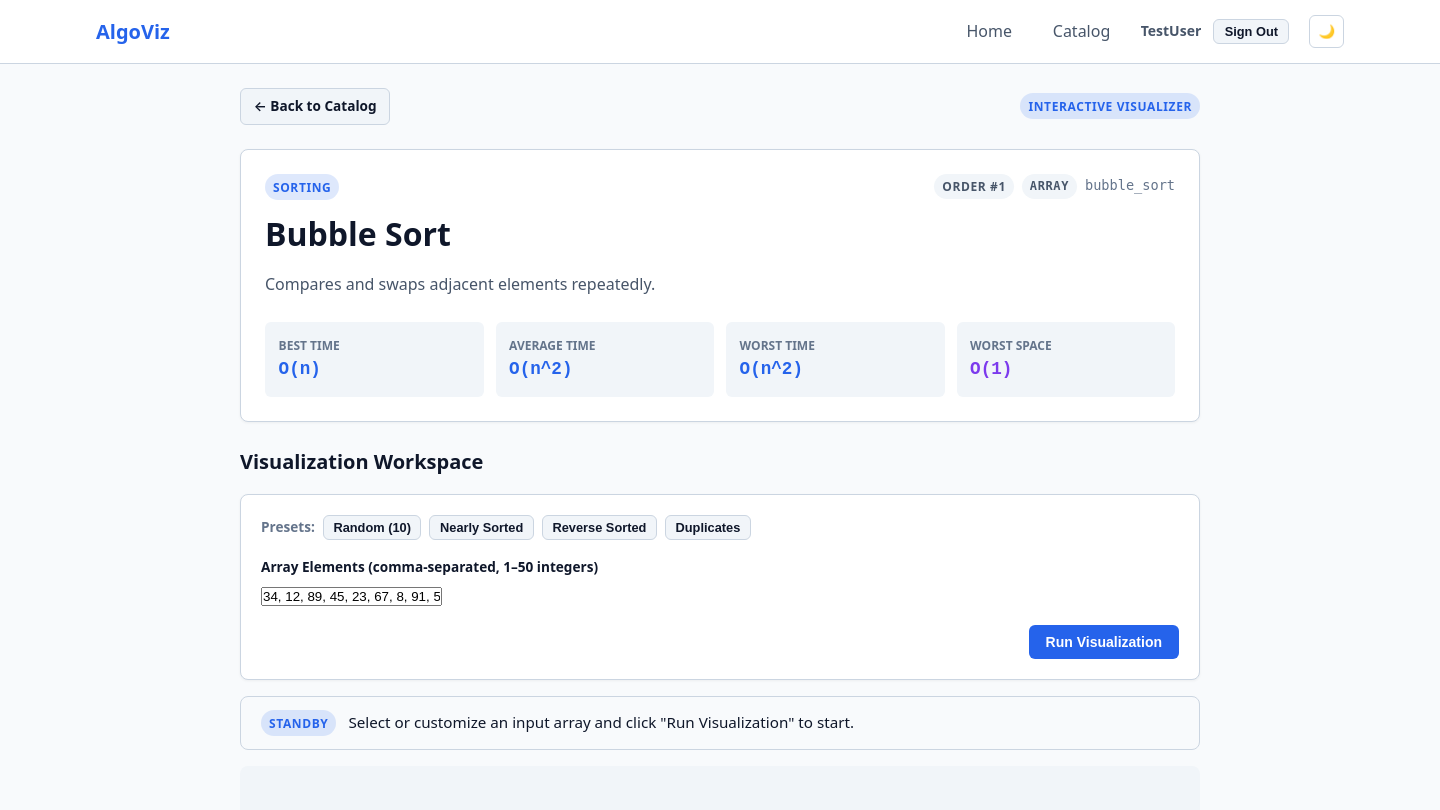
Test: Phase 10D Visualizers & Integration Tests › 5. VisualizerPage Interactive End-to-End Tests › loads metadata, submits visualization request, and renders playback workspace
Expected: the heading "Bubble Sort" is shown, 265,208 -> 451,259
Expected: the button "Random (10)" is shown, 323,515 -> 422,540
Click "Run Visualization"
Click the button "Run Visualization": (1104, 642) 1029,625 -> 1179,659
(page scrolled)
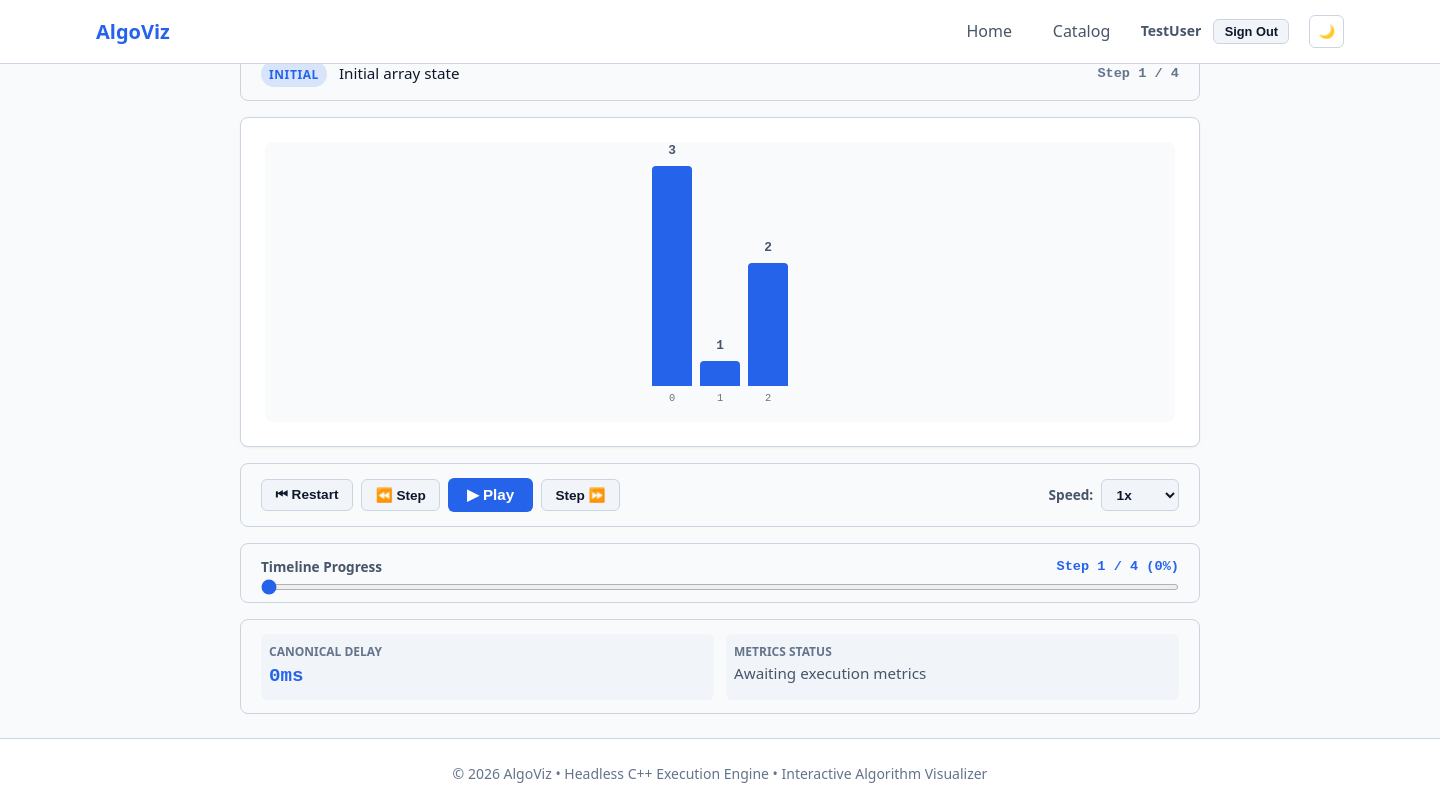
Expected: the text "Initial array state" is shown, 339,64 -> 460,85
Verify step forward button advances step
Click the button with aria-label "Step forward": (580, 495) 541,479 -> 620,512
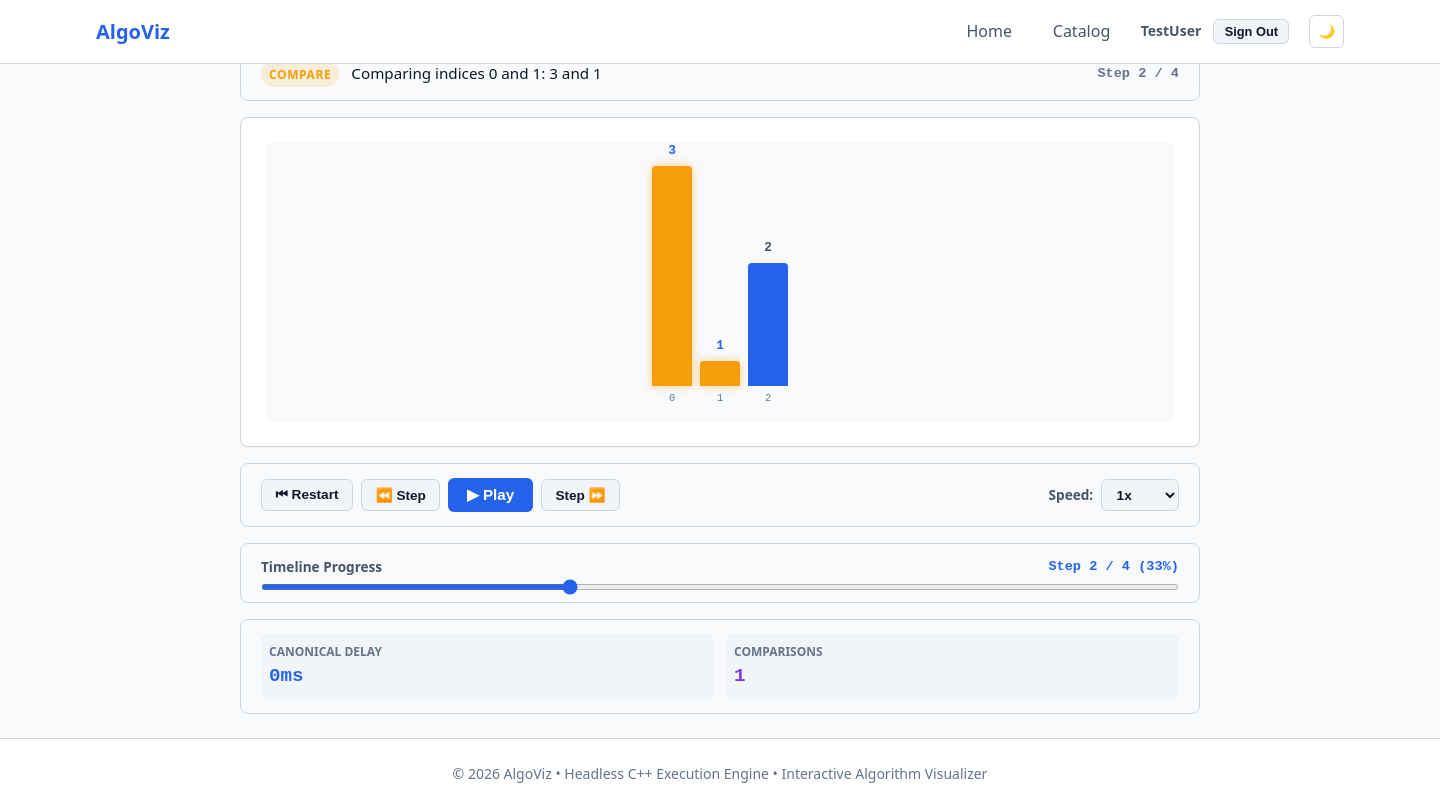
Expected: the text "Comparing indices 0 and 1: 3 and 1" is shown, 351,64 -> 602,85
Verify restart button resets to step 1
Click the button with aria-label "Restart to step 0": (307, 495) 261,479 -> 353,512
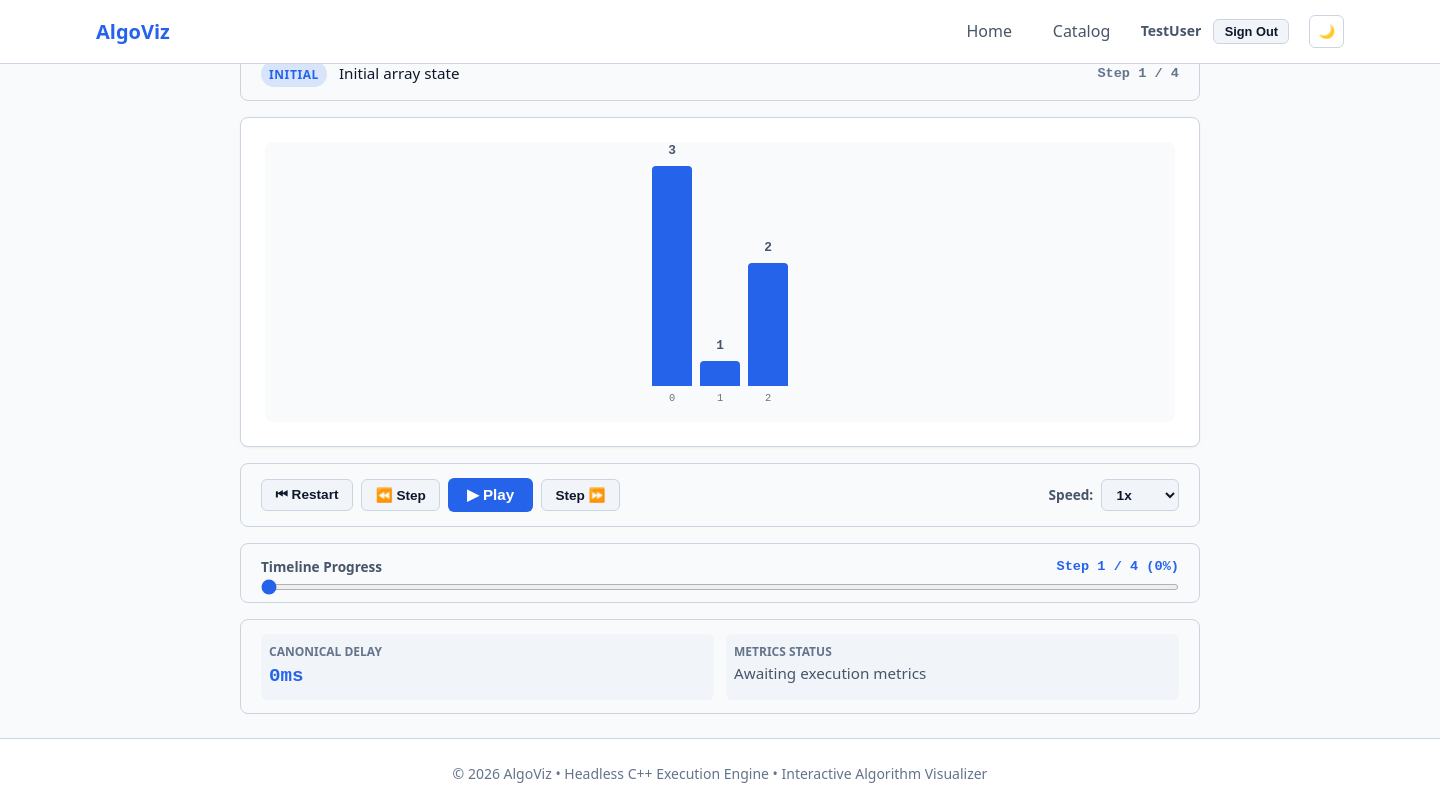
Expected: the text "Initial array state" is shown, 339,64 -> 460,85
